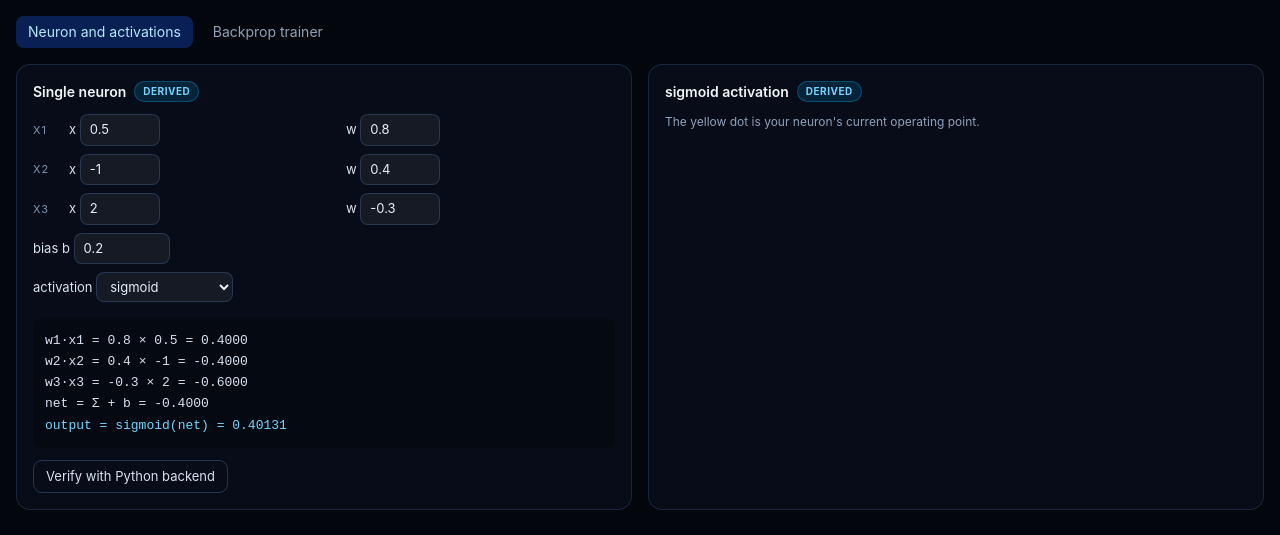
Test: every page renders against real API payloads › Neural nets: neuron, backend verify, trainer
Expected: the text "output = sigmoid(net) = 0.40131" is shown, [45, 418, 287, 432]
Click the button "Verify with Python backend": point(130, 476) [33, 460, 228, 493]
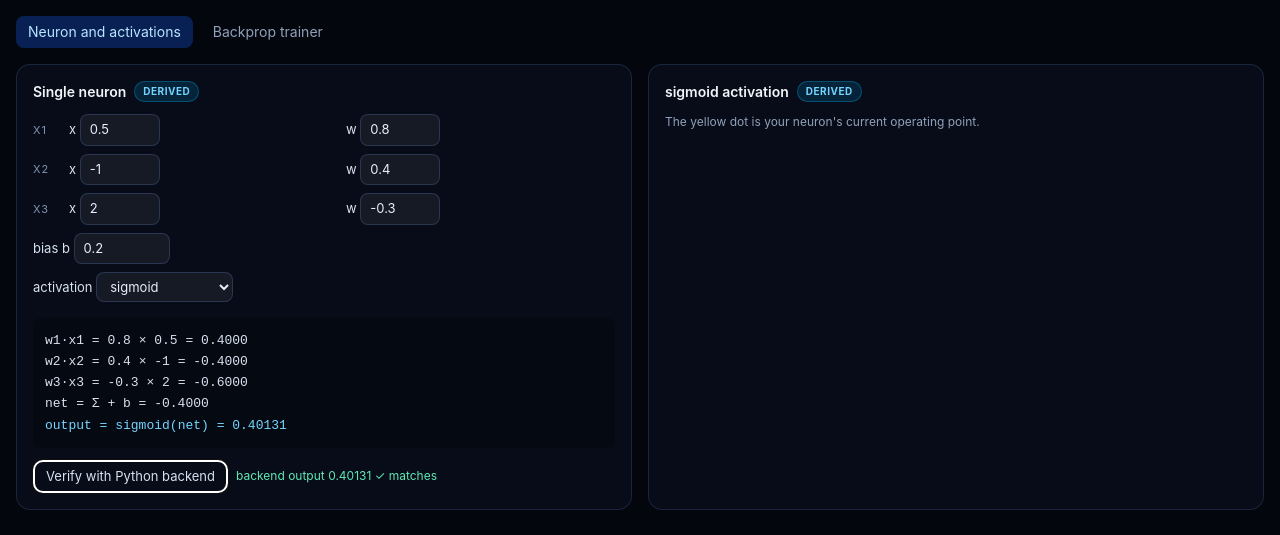
Expected: the text "backend output 0.40131 ✓ matches" is shown, [236, 468, 437, 484]
Click the button "Backprop trainer": point(268, 32) [201, 16, 335, 48]
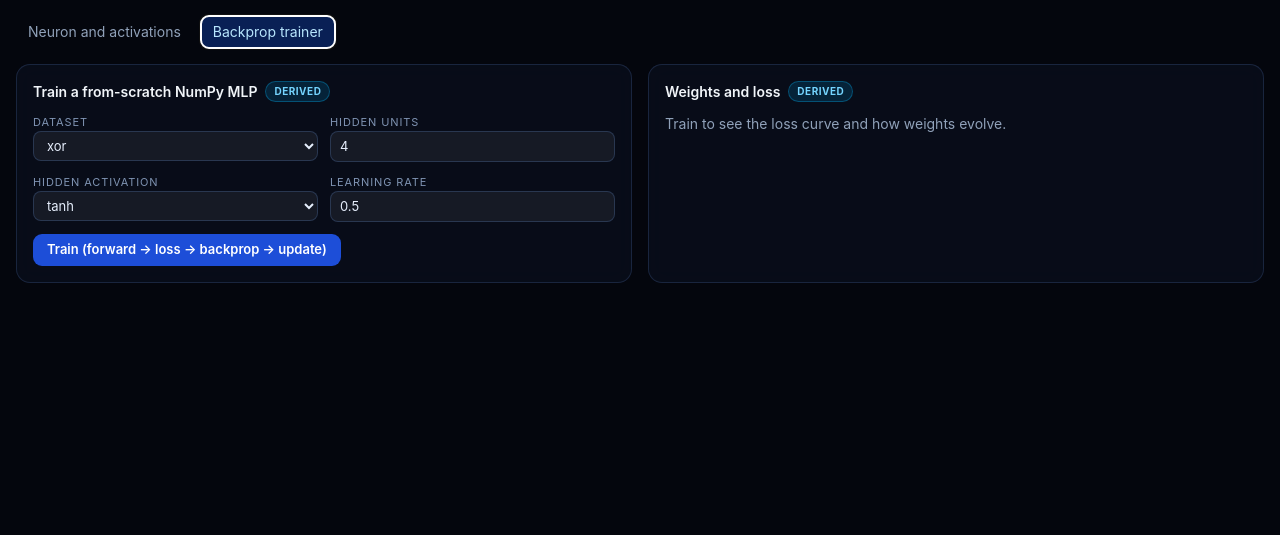
Click the button "Train (forward → loss → backprop → update)": point(187, 250) [33, 234, 341, 266]
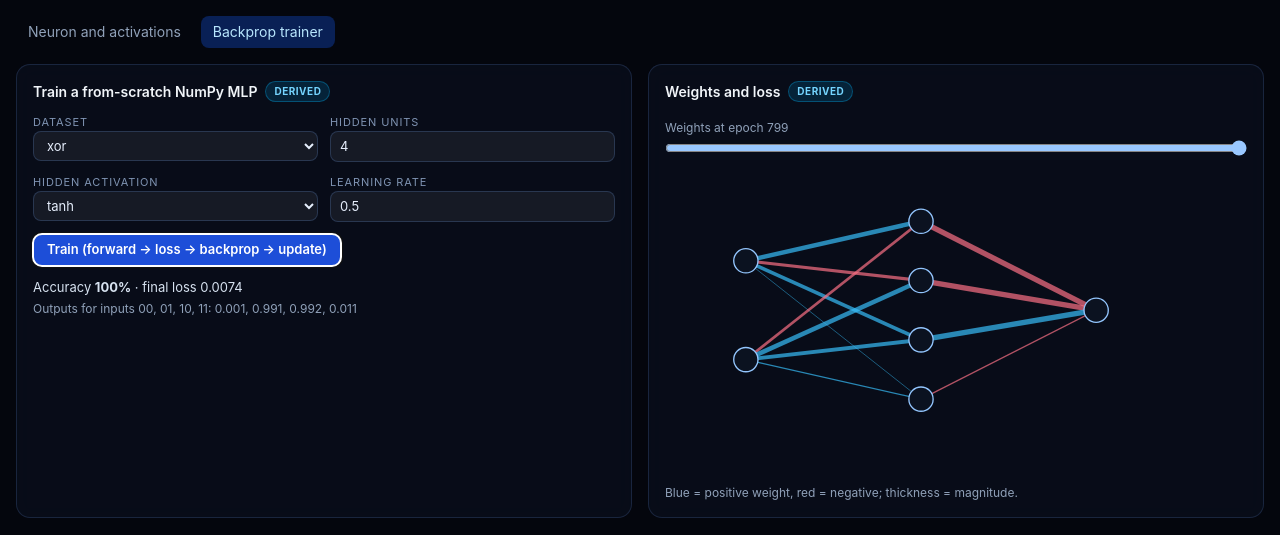
Expected: the text "Accuracy" is shown, [33, 278, 95, 294]
